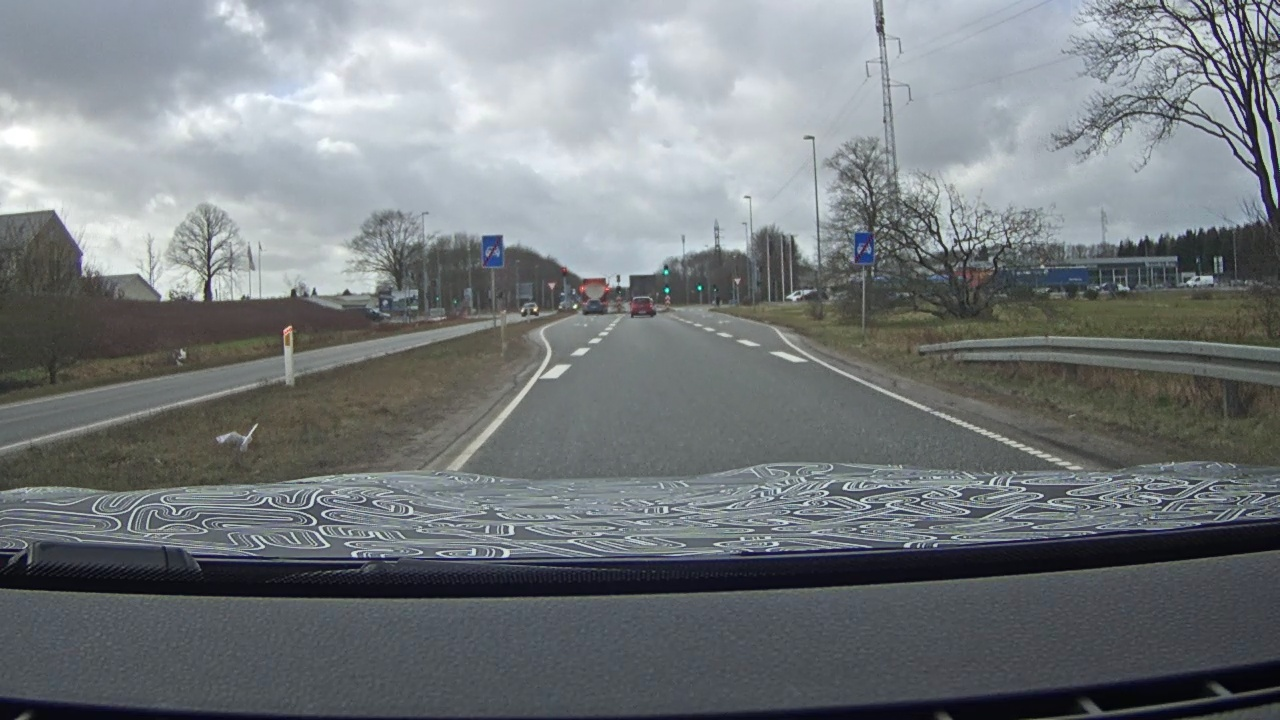Expressway_End: (481, 233, 505, 269), (853, 231, 875, 266)
